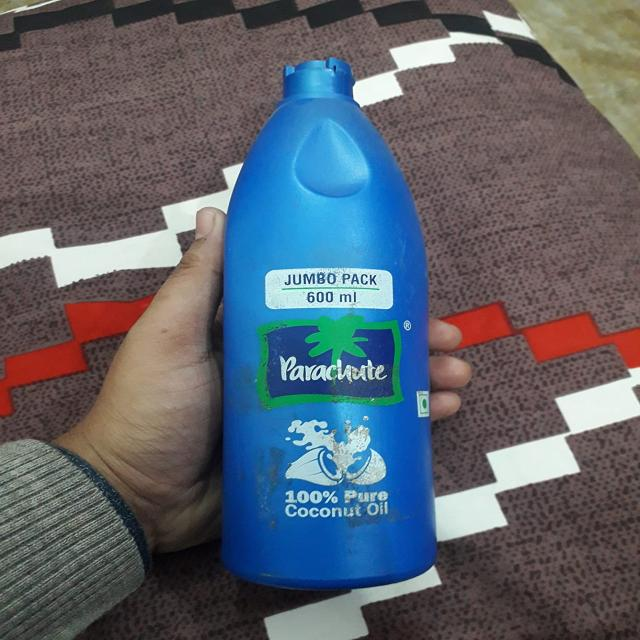parachute_oil: (206, 43, 446, 602)
